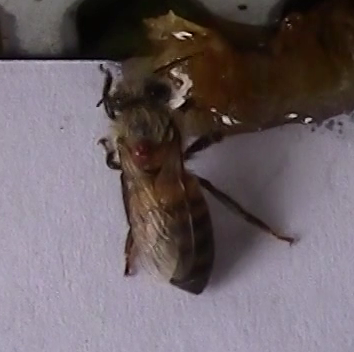Varroa destructor: (133, 138, 154, 167)
